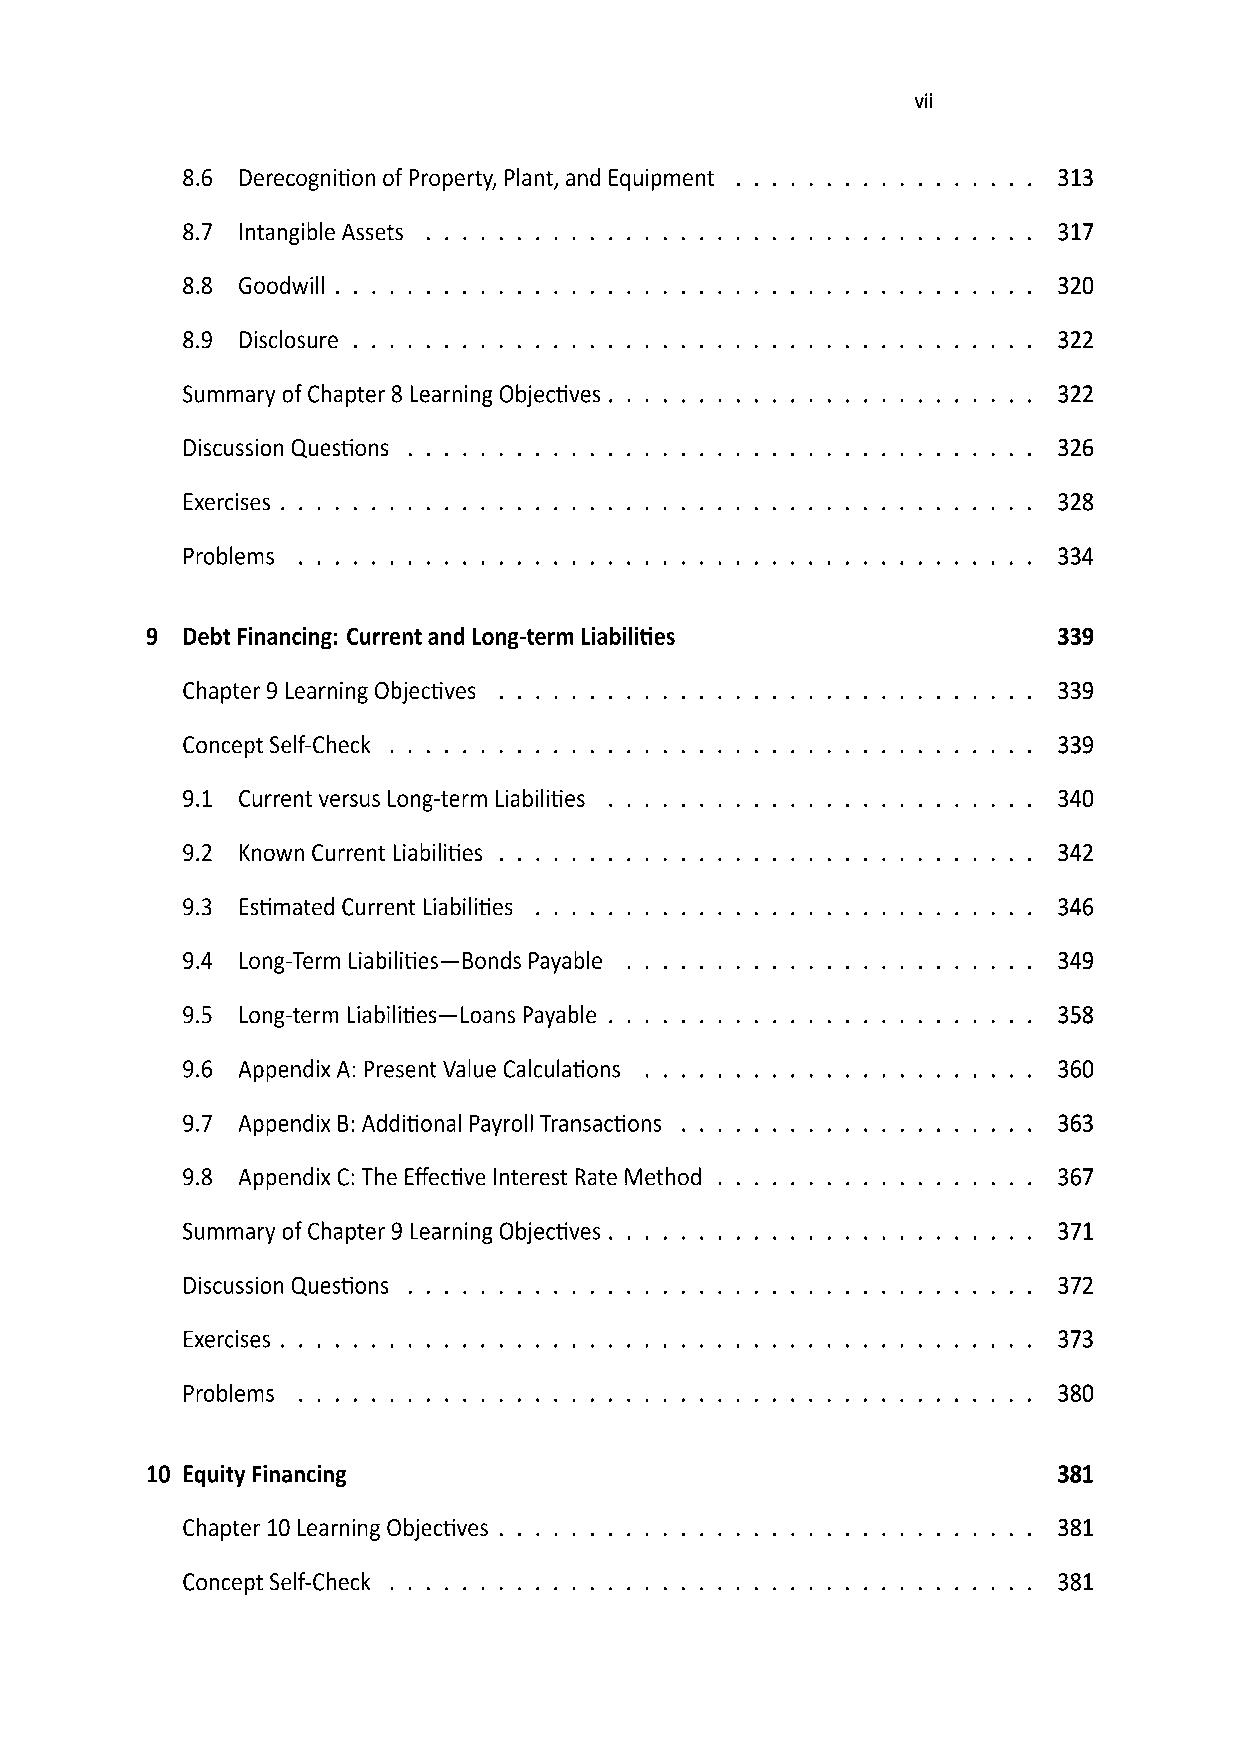TOC_chapter: (141, 619, 684, 658), (172, 162, 721, 193), (180, 1159, 709, 1190), (176, 996, 604, 1033), (170, 1104, 667, 1137), (178, 943, 607, 980), (174, 1053, 629, 1087), (172, 374, 607, 409), (178, 782, 590, 817), (178, 832, 488, 875), (176, 1216, 604, 1247), (178, 890, 521, 923), (180, 1512, 494, 1547), (178, 670, 483, 703), (172, 216, 411, 250), (176, 1566, 378, 1602), (174, 727, 374, 764), (176, 433, 396, 466), (137, 1461, 349, 1494), (176, 1274, 400, 1300), (176, 319, 340, 353), (166, 268, 331, 301), (174, 537, 282, 572), (174, 483, 275, 518), (180, 1322, 275, 1355), (180, 1381, 276, 1405)
TOC_pagenumber: (1048, 888, 1104, 927), (1045, 1048, 1106, 1084), (1049, 158, 1104, 197), (1048, 721, 1102, 760), (1049, 264, 1104, 301), (1052, 318, 1099, 360), (1052, 994, 1100, 1033), (1052, 1212, 1100, 1251), (1052, 939, 1096, 981), (1052, 212, 1100, 250), (1056, 778, 1096, 821), (1056, 1096, 1095, 1139), (1049, 377, 1104, 407), (1052, 620, 1099, 654), (1049, 428, 1100, 459), (1053, 672, 1096, 709), (1052, 483, 1099, 515), (1052, 1274, 1099, 1306), (1053, 1158, 1099, 1190), (1052, 1325, 1099, 1355), (1052, 1512, 1095, 1545), (1053, 539, 1095, 570), (1056, 1380, 1095, 1412), (1056, 833, 1092, 867), (1056, 1563, 1091, 1596), (1052, 1460, 1096, 1484)
